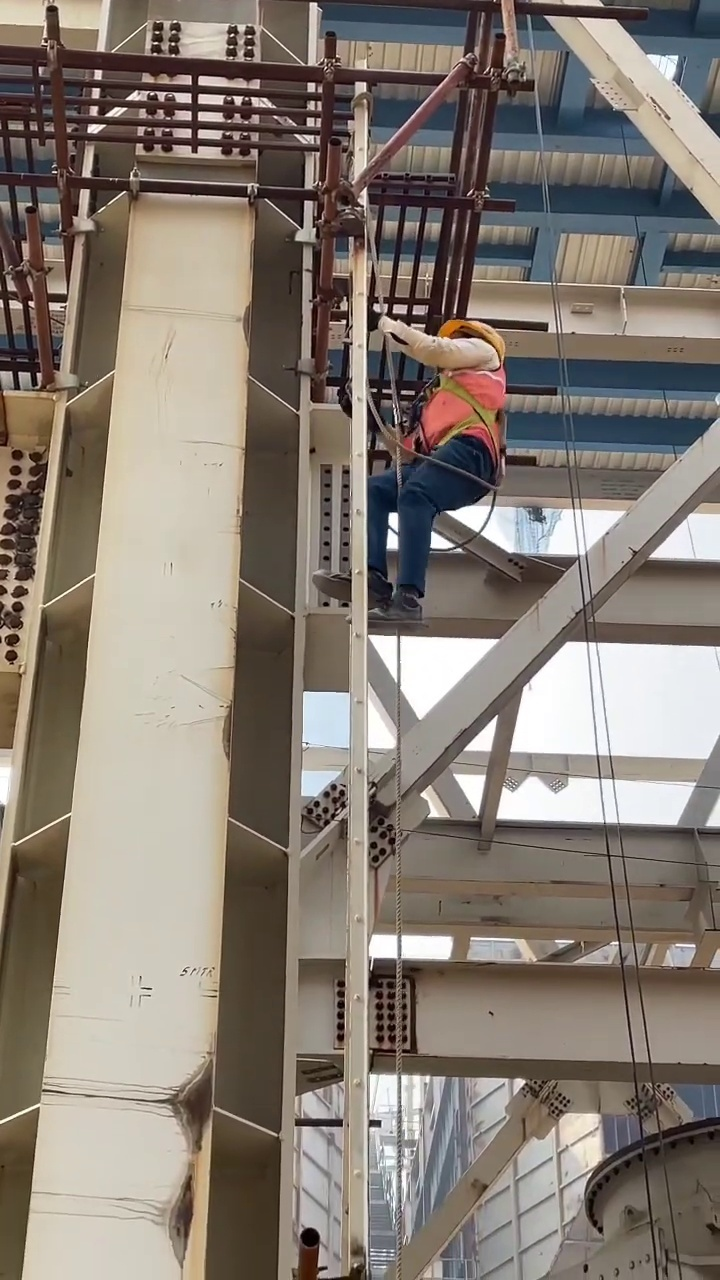Helmet: (440, 319, 507, 352)
Person: (309, 319, 511, 633)
Safety_Harness: (413, 366, 510, 476)
Safety_shoes: (310, 568, 392, 606), (343, 601, 428, 636)
